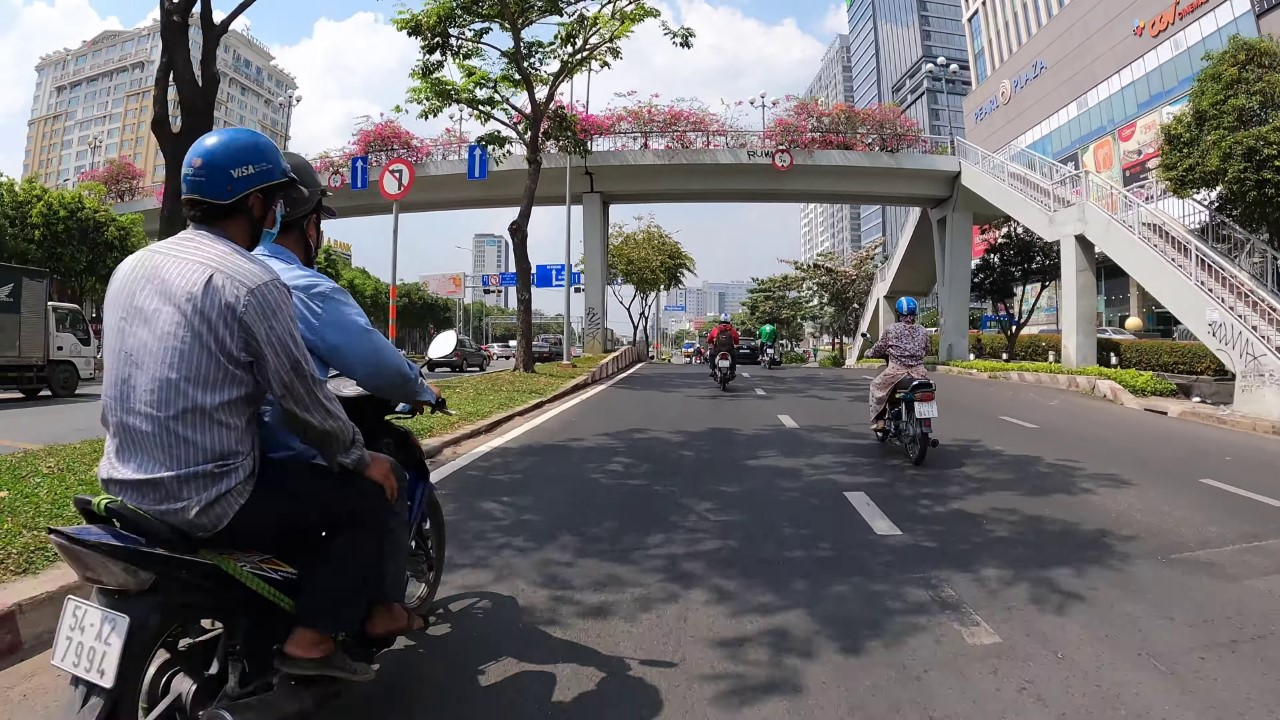cam_re_trai: (376, 157, 417, 201)
